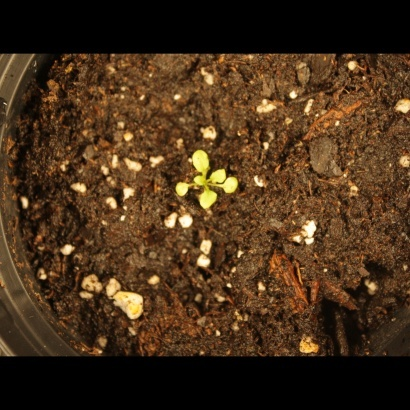leaf: (169, 176, 192, 199), (196, 187, 219, 210), (223, 175, 246, 198), (190, 150, 213, 173), (211, 162, 234, 185), (191, 169, 214, 192)
